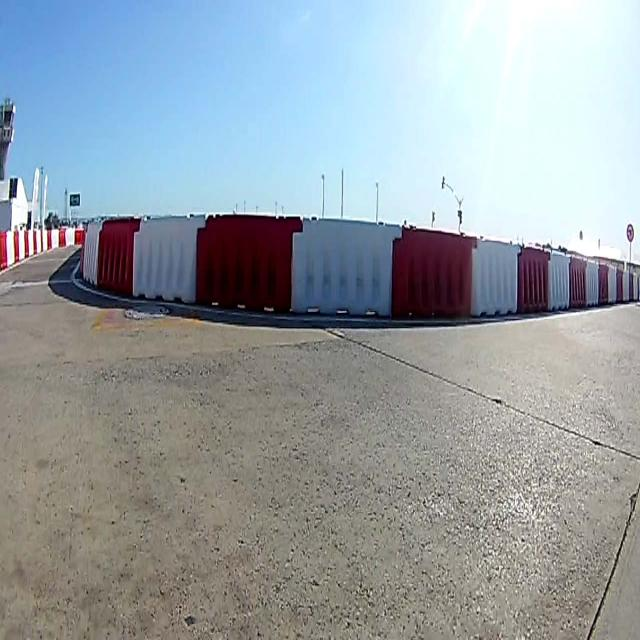soladonulmez: (625, 223, 635, 243)
